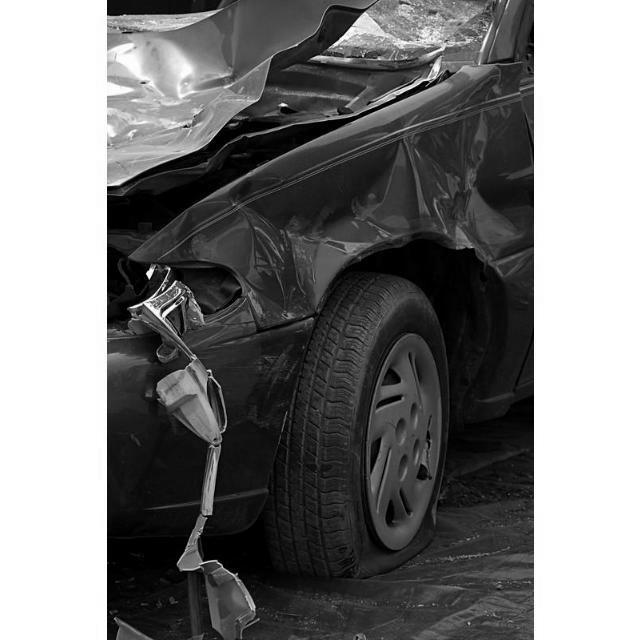bonnet-dent: (106, 1, 434, 218)
fender-dent: (148, 120, 523, 336)
